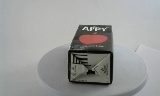appy: (62, 23, 107, 86)
